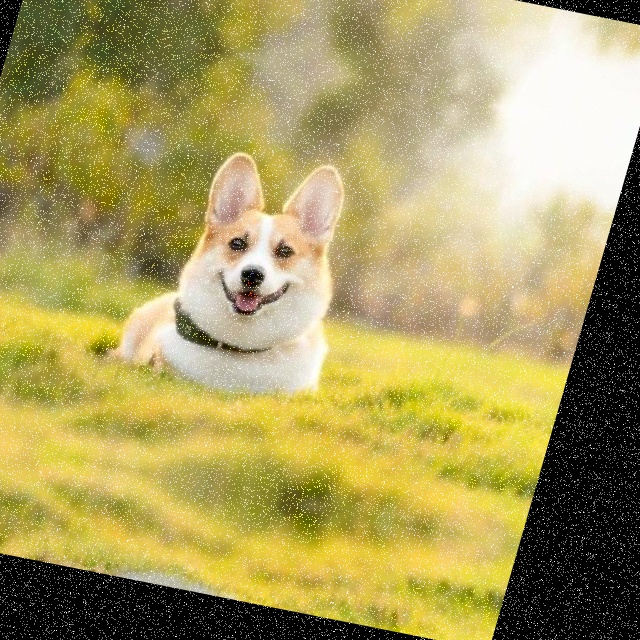dog: (22, 91, 440, 426), (0, 527, 314, 614), (134, 0, 487, 36)
